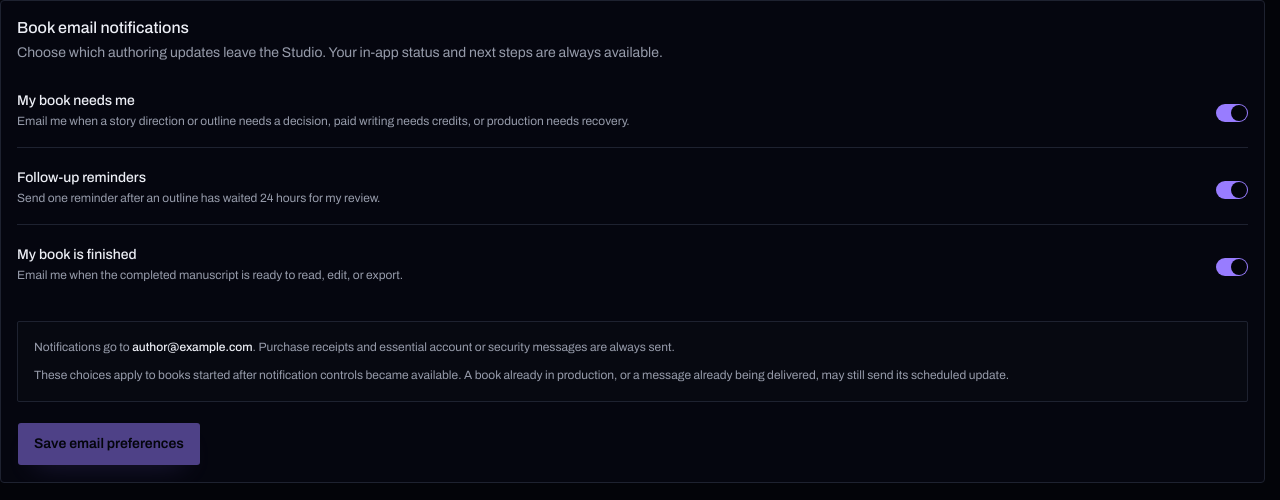
Scenario: NotificationPreferencesCard › sends only changed fields and announces the authoritative saved result
The width and height of the screenshot is (1280, 500).
Click the switch named "My book needs me" at (1232, 113), box x1=1216 y1=104 x2=1248 y2=122
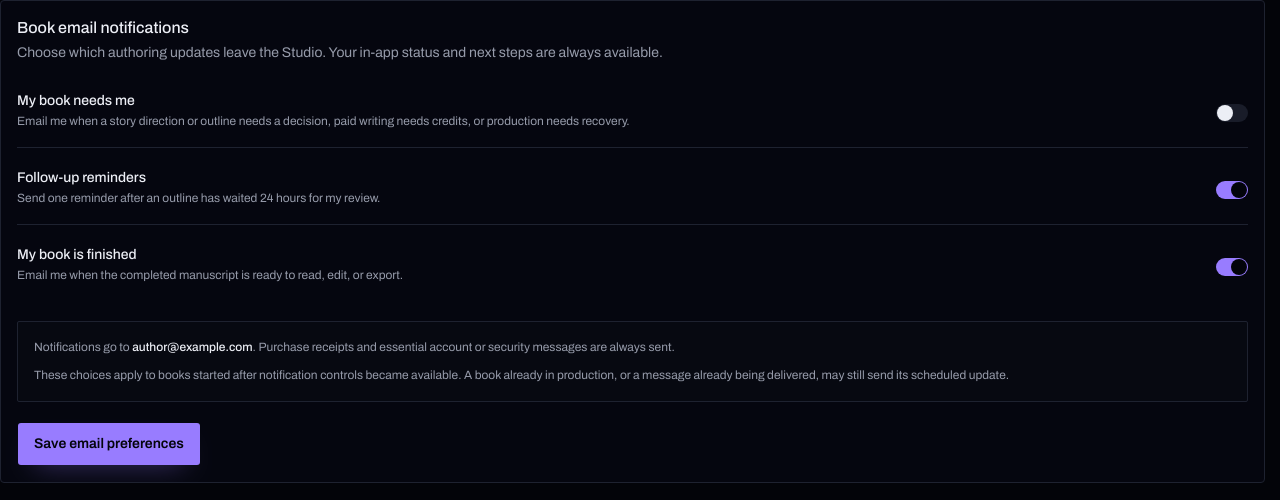
Click the switch named "My book is finished" at (1232, 267), box x1=1216 y1=258 x2=1248 y2=276
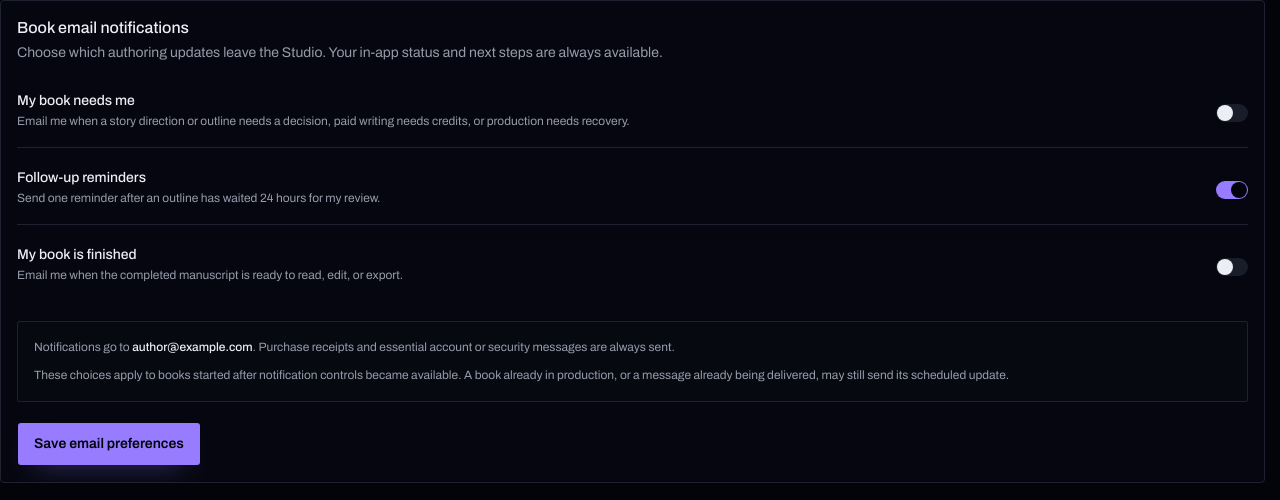
Click the button "Save email preferences" at (109, 444), box x1=17 y1=422 x2=201 y2=466
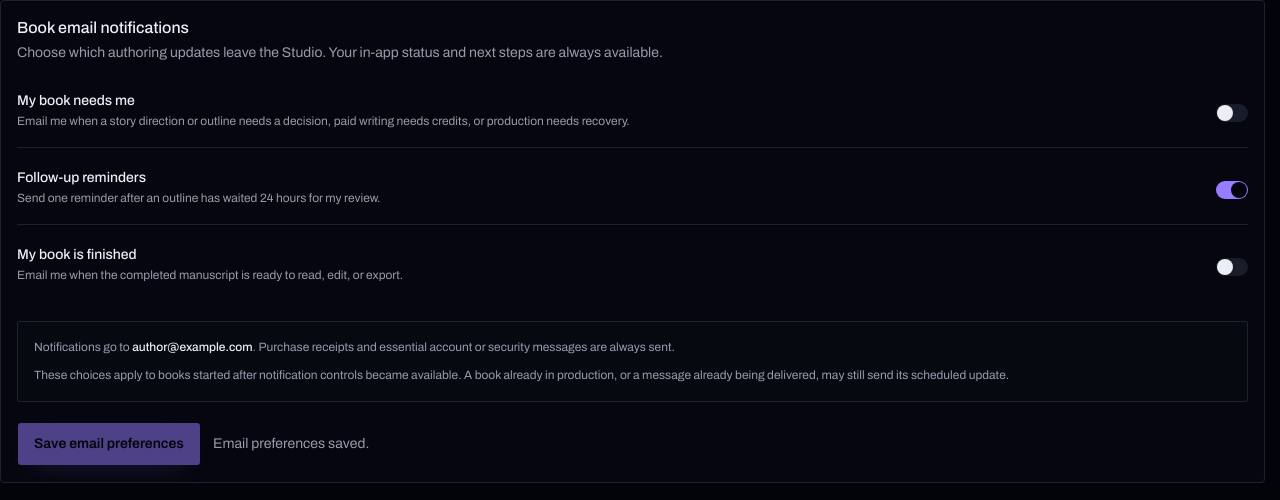
Check: the message reads "Email preferences saved.", box x1=213 y1=436 x2=369 y2=451
Check: the button "Save email preferences" is disabled, box x1=17 y1=422 x2=201 y2=466
